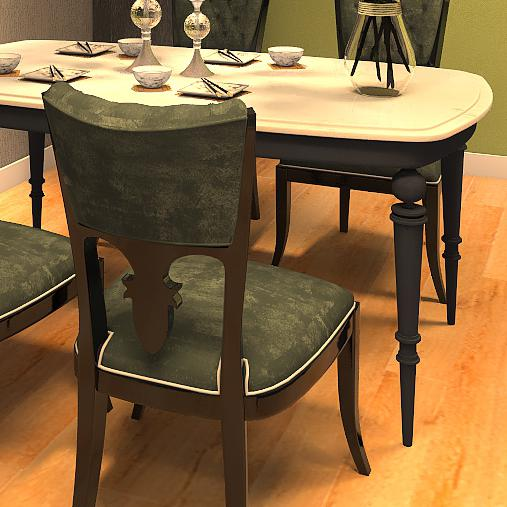table: (2, 36, 490, 407)
